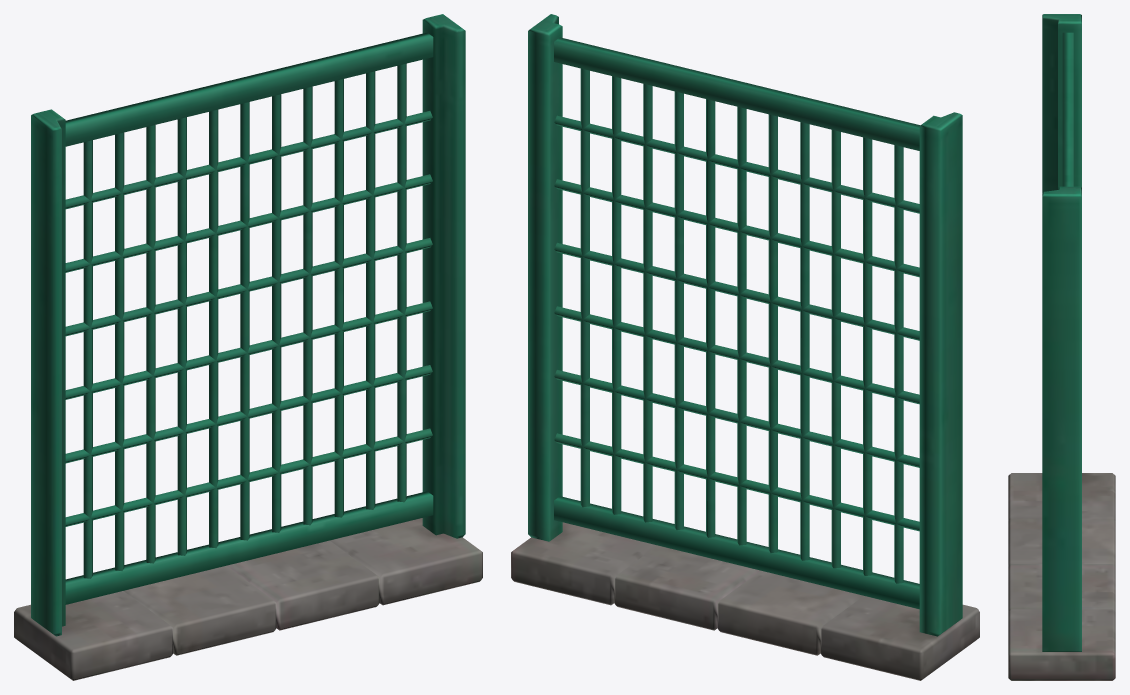
3 views of the same model, side by side, from view 1: azimuth 30°, elevation 25°; view 2: azimuth 150°, elevation 25°; view 3: azimuth 270°, elevation 25° (orthographic). The views are drawn at different scales.
Bounding box in the file's own units: 20 × 25 × 5.
1 material, 1 textured.
